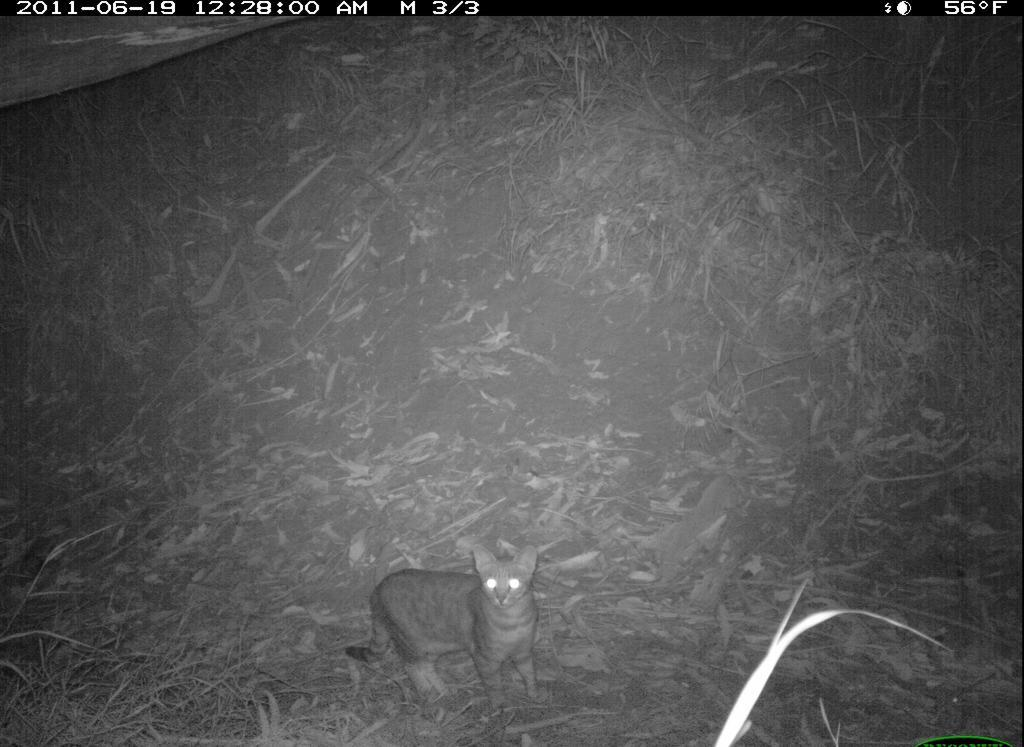cat: (331, 539, 584, 719)
